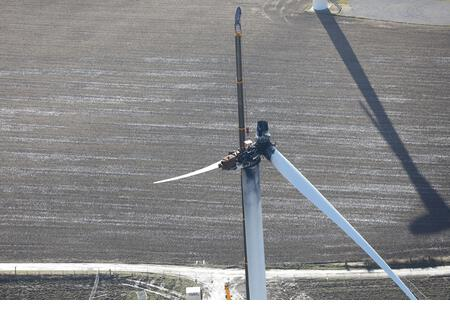faulty: (204, 90, 299, 194)
